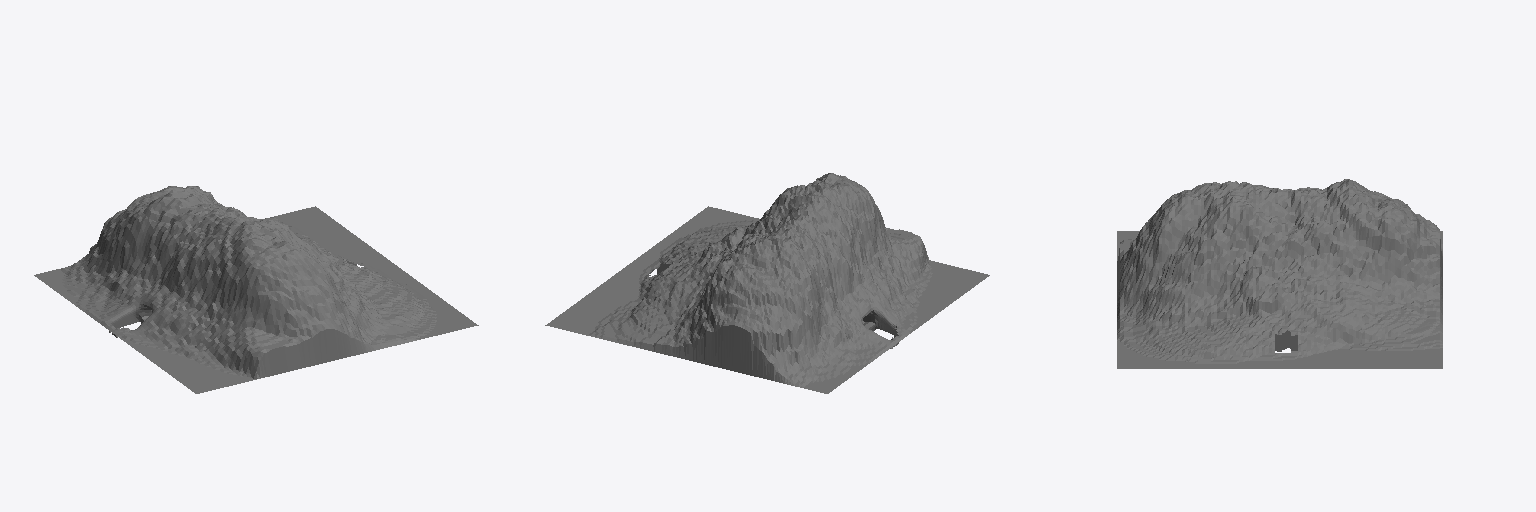
File: cave2.obj
The picture shows the model from 3 angles: view 1: azimuth 30°, elevation 25°; view 2: azimuth 150°, elevation 25°; view 3: azimuth 270°, elevation 25°; orthographic projection.
Parts seen in each view (by area): view 1: cave2; view 2: cave2; view 3: cave2.
Boxes of the visible parts, x1,y1,x2,y2 form: cave2: [34, 186, 478, 393]; cave2: [545, 173, 989, 393]; cave2: [1117, 179, 1442, 368].
Bounding box in the file's own units: 100 × 40.07 × 100.